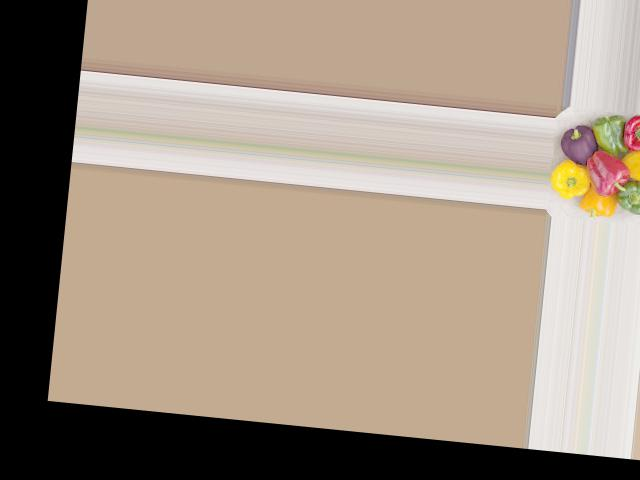bell_pepper: (560, 113, 607, 167)
